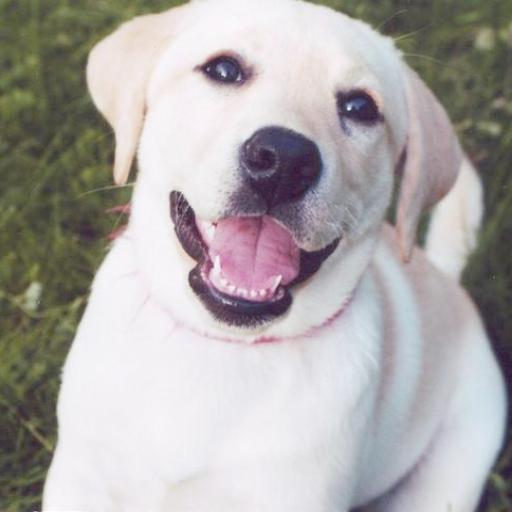dog_face: (98, 0, 448, 314)
